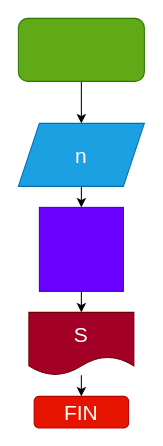
The diagram is 163 pixels wide and 446 high, and some of its shapes have lost their labels. The centre of each missing label's shape, as x and y in pixels:
"INICIO" belongs at point 80,49.
"S= n(n+1)/2" belongs at point 80,248.
